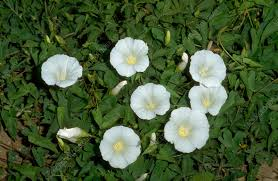bindweed: (162, 105, 211, 155), (99, 125, 142, 171), (108, 35, 150, 78), (39, 53, 85, 89), (129, 82, 171, 121), (188, 48, 228, 88), (187, 82, 229, 117)
